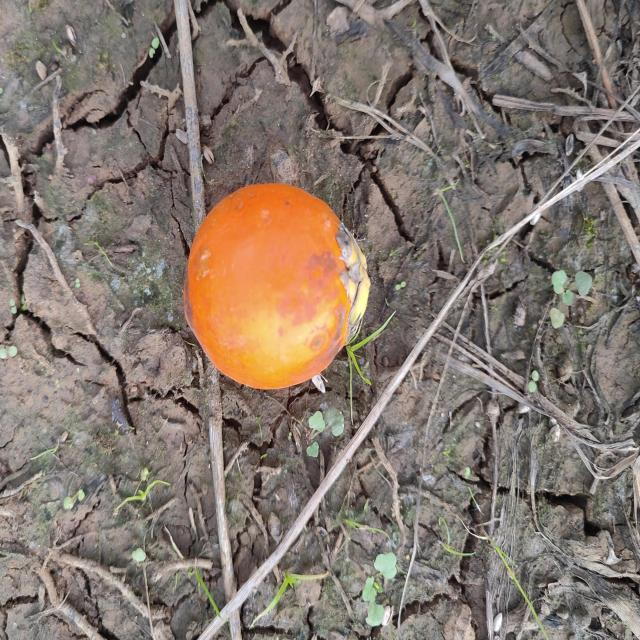good: (183, 183, 367, 393)
